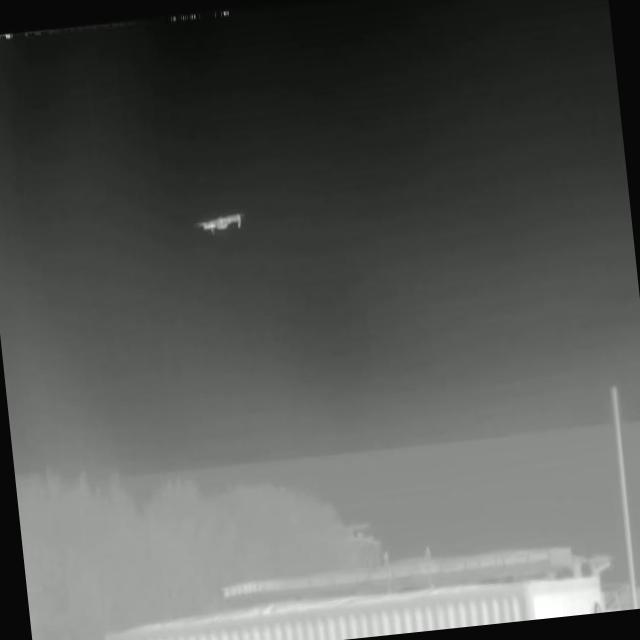DRONE: (187, 202, 254, 245)
